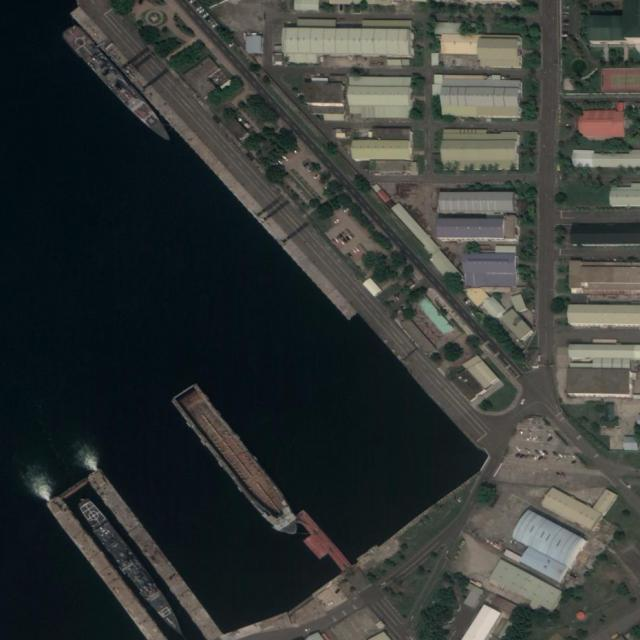Cargo: (164, 378, 310, 546)
Frigate: (76, 495, 186, 638), (59, 20, 175, 149)
